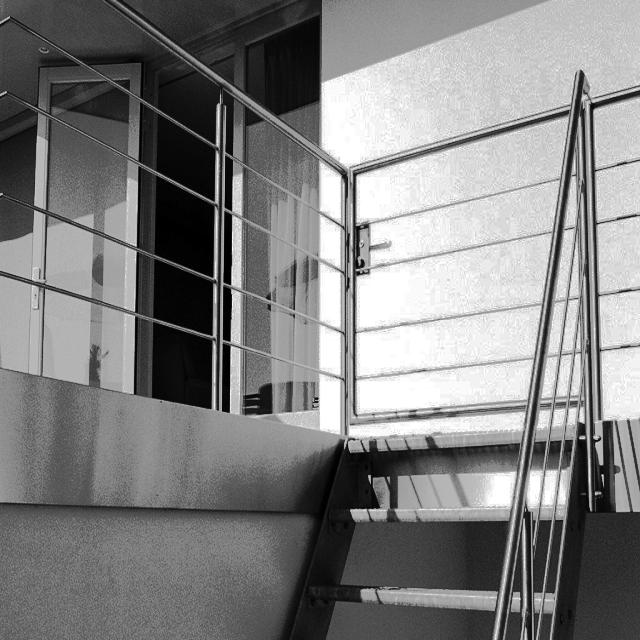fences: (0, 98, 631, 382)
